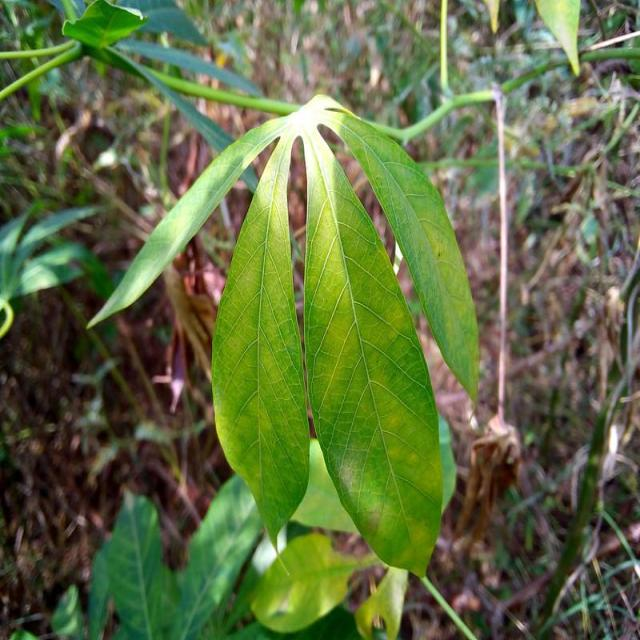cassava leaf: (86, 92, 480, 579), (300, 119, 444, 578), (210, 118, 310, 552)
